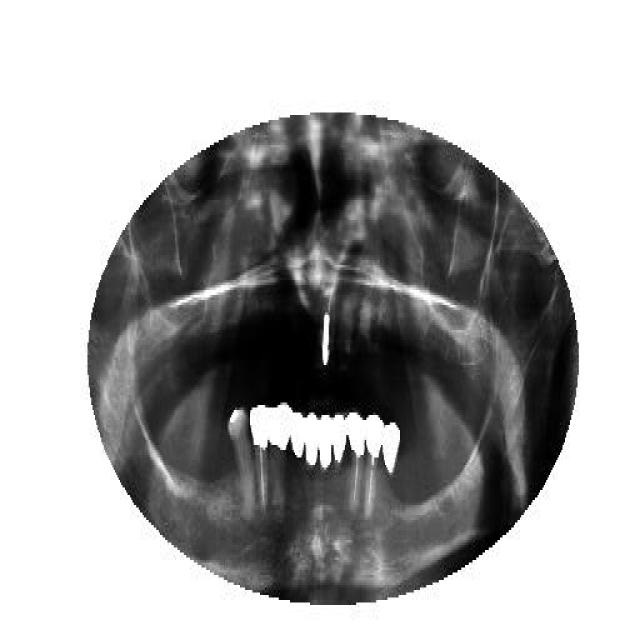Fillings: (268, 400, 292, 515), (382, 418, 402, 480), (318, 408, 332, 480), (305, 405, 319, 475), (332, 408, 346, 478), (291, 402, 305, 470)
Implant: (346, 415, 369, 517), (250, 400, 270, 510), (365, 413, 384, 515), (321, 300, 330, 372)
